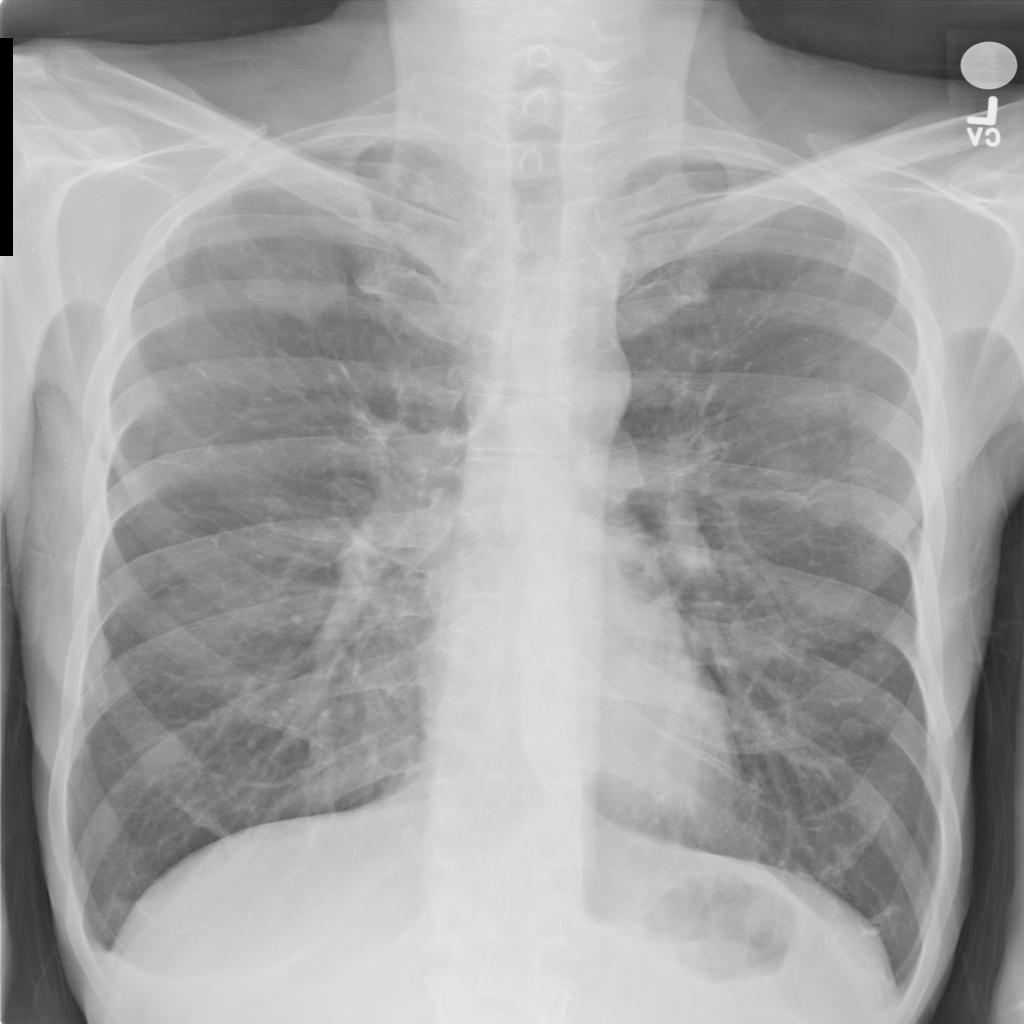nodule: (218, 219, 372, 330), (115, 718, 201, 793), (749, 438, 832, 505), (246, 480, 304, 525), (826, 706, 881, 752), (83, 628, 135, 675), (802, 490, 855, 536)
